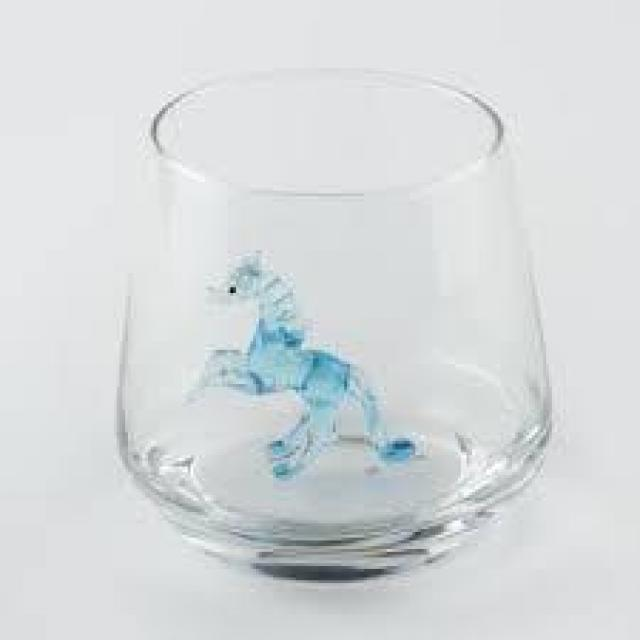non-organic waste: (112, 62, 559, 588)
